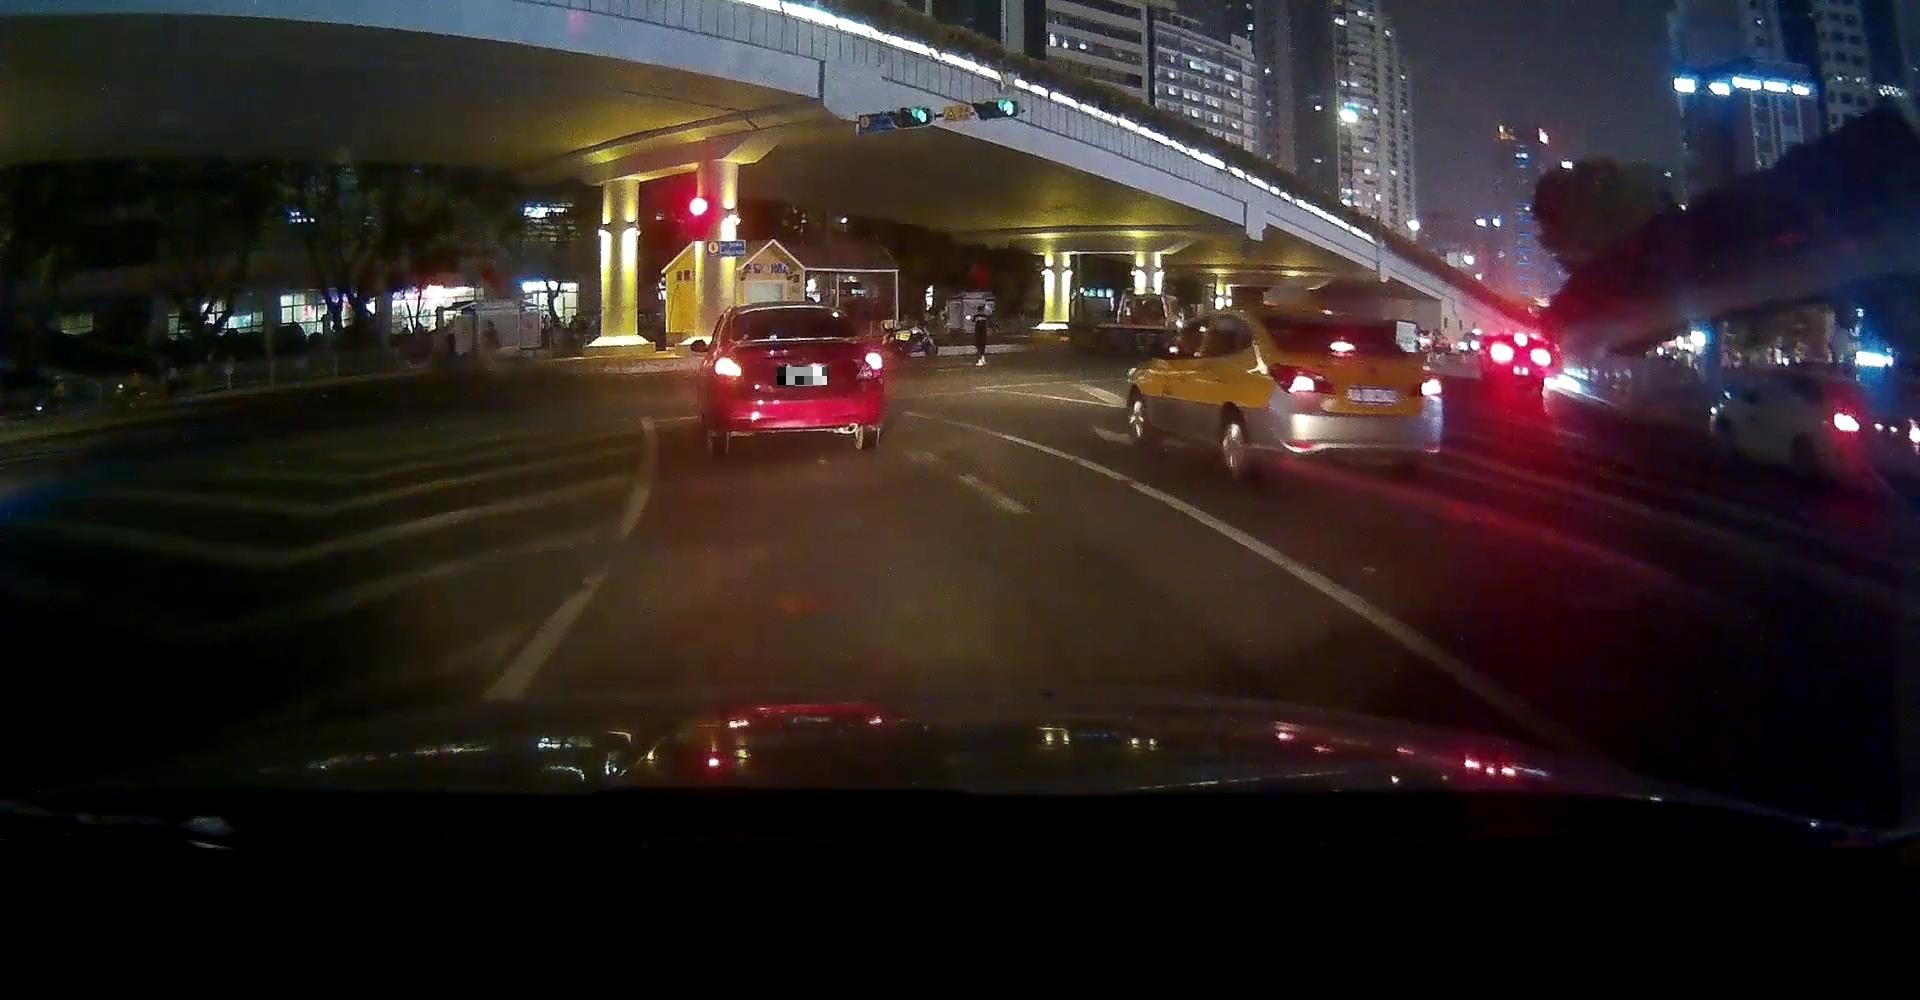L_light: (1267, 362, 1338, 393), (714, 357, 742, 376)
R_light: (1407, 372, 1443, 397), (865, 352, 883, 371)
T_light: (1330, 341, 1356, 352), (781, 308, 805, 311)
night-brake: (1253, 305, 1443, 485)
night-left: (714, 299, 885, 458)
plate_1: (777, 367, 827, 386)
